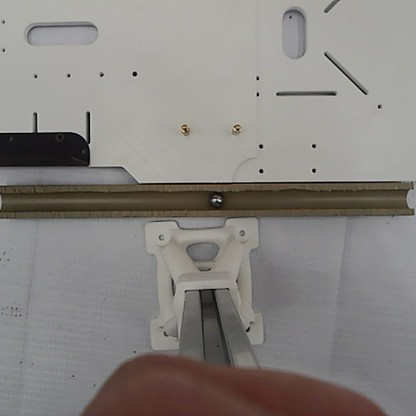ironball: (205, 190, 224, 210)
